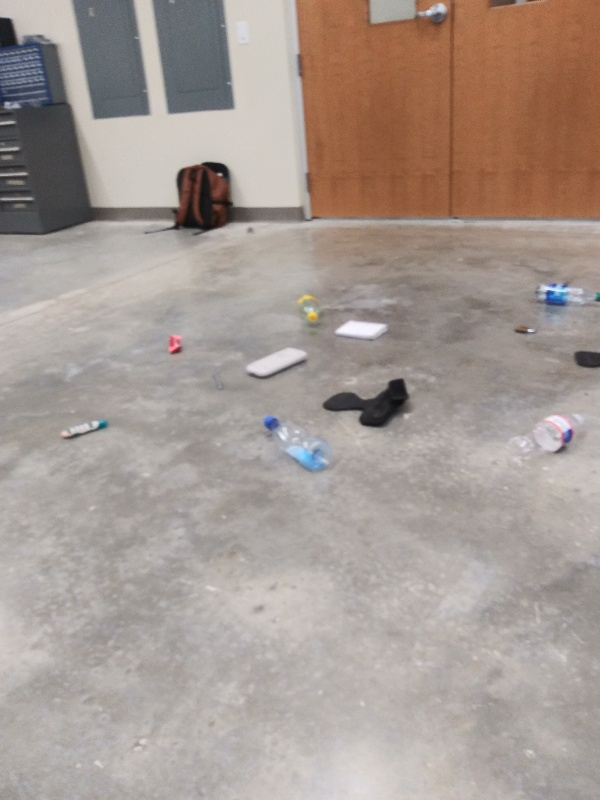bottle: (504, 407, 587, 468), (263, 411, 332, 474), (532, 278, 600, 313), (295, 287, 322, 324)
